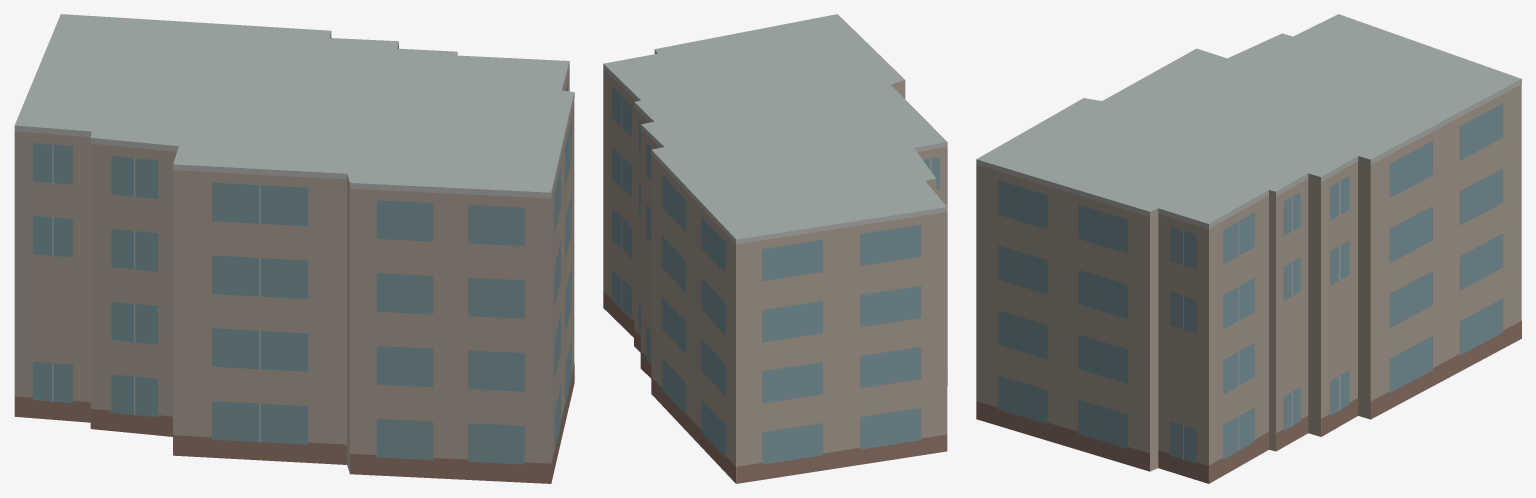
The model's file is survey-upis-32718564.glb.
3 views of the same model, side by side, from view 1: azimuth 30°, elevation 25°; view 2: azimuth 150°, elevation 25°; view 3: azimuth 270°, elevation 25° (orthographic). The views are drawn at different scales.
Parts seen in each view (by area): view 1: survey-upis-32718564.tmp; view 2: survey-upis-32718564.tmp; view 3: survey-upis-32718564.tmp.
Boxes of the visible parts, x1,y1,x2,y2 form: survey-upis-32718564.tmp: (14,14,574,483); survey-upis-32718564.tmp: (603,14,947,483); survey-upis-32718564.tmp: (976,14,1521,483).
Bounding box in the file's own units: 21.16 × 12.2 × 23.22.
